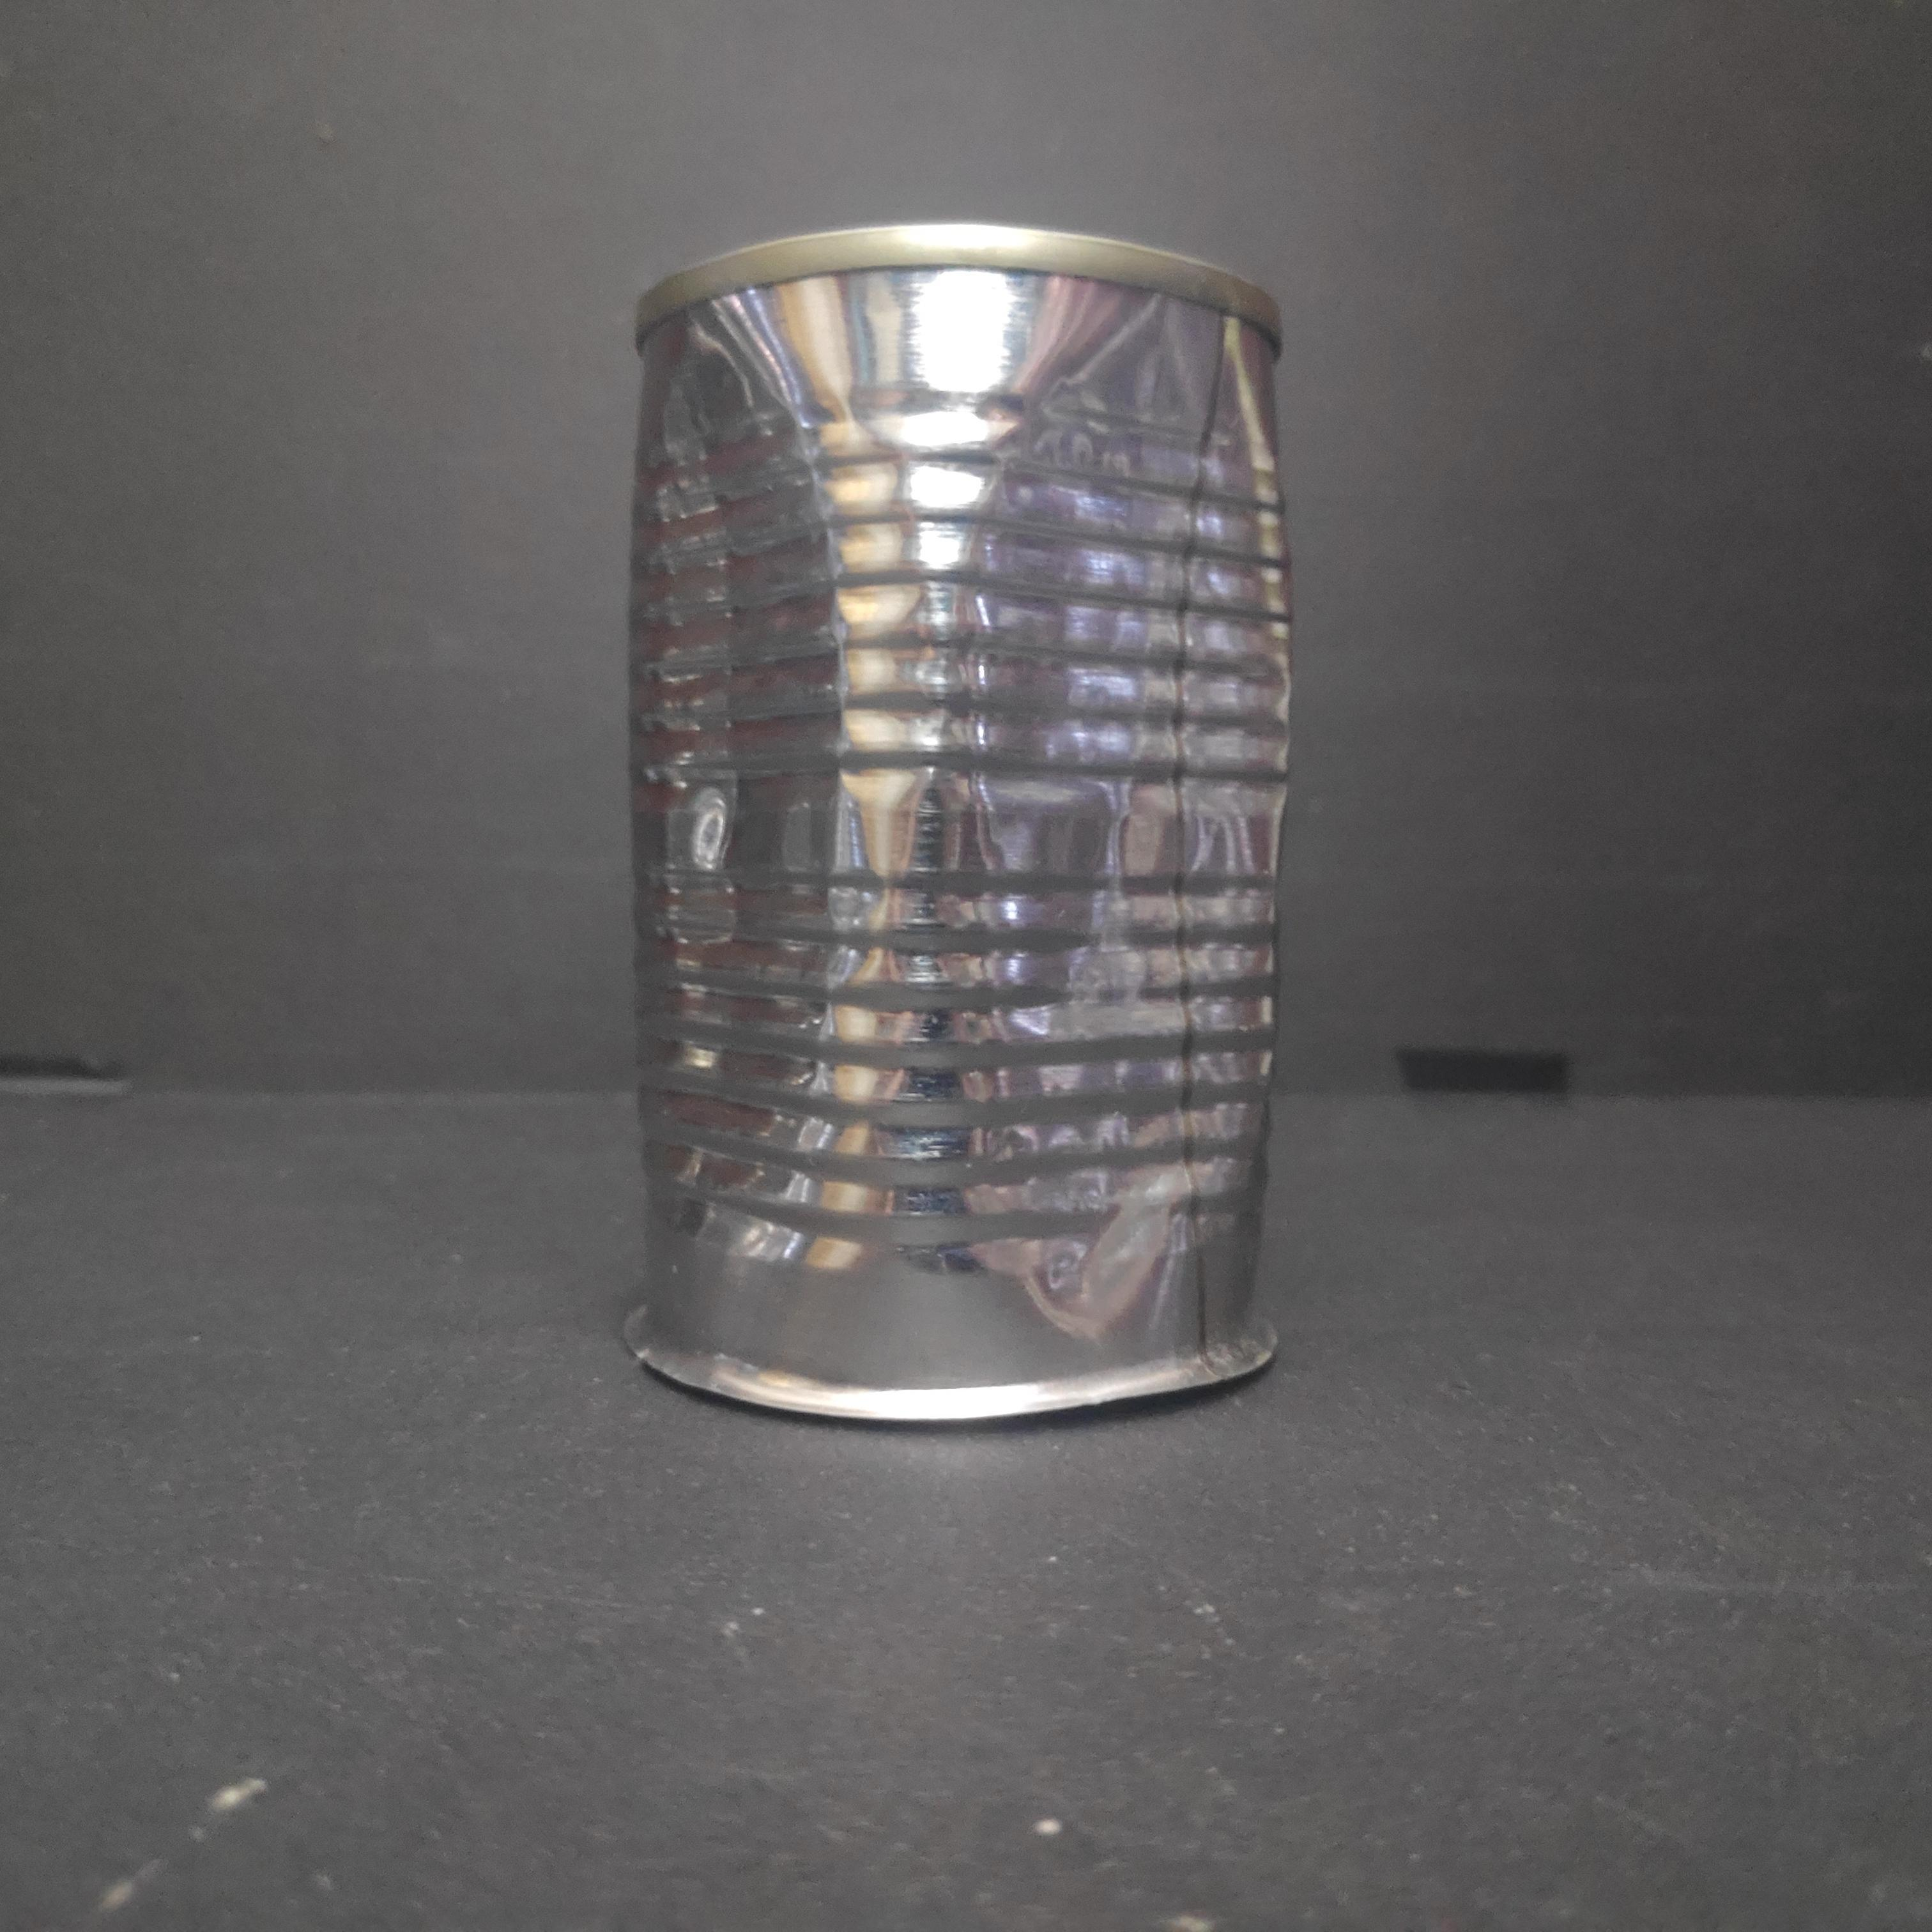Dented: (594, 207, 1329, 1440)
